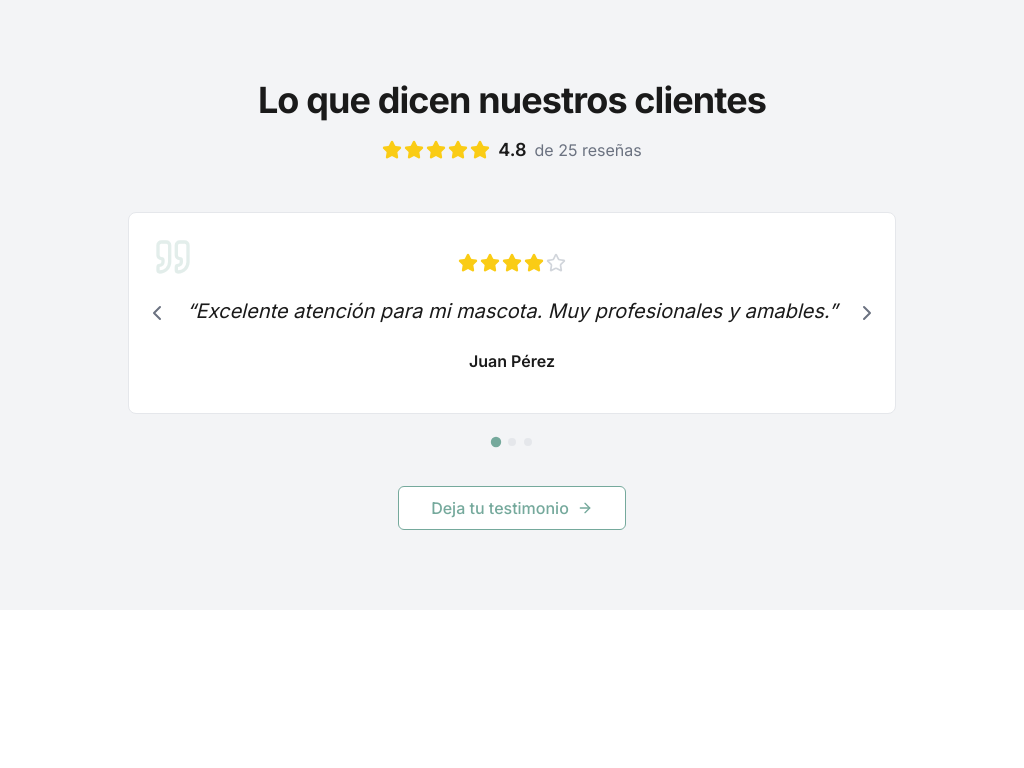
it: TestimonialsSection › Navigation Controls › should navigate to next testimonial on arrow click
Expected: the text "Juan Pérez" is shown, left=469, top=351, right=555, bottom=371
Note: Click next
Click the button named "Siguiente testimonio": x=867, y=313 left=847, top=293, right=887, bottom=333
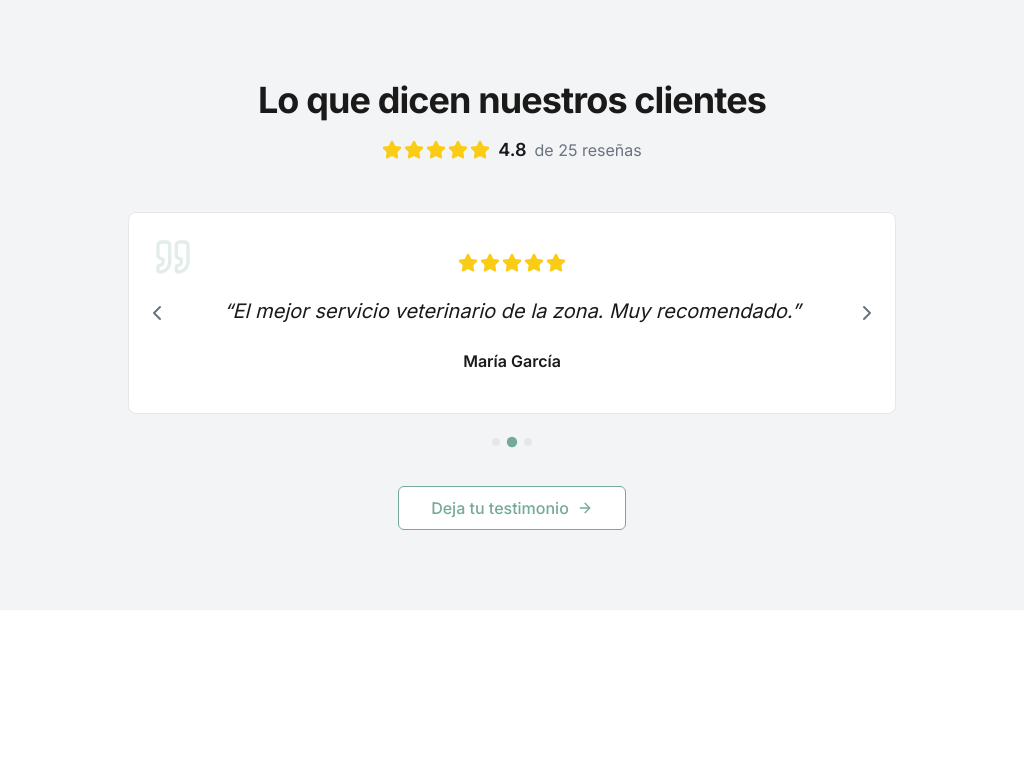
Expected: the text "María García" is shown, left=463, top=351, right=561, bottom=371
